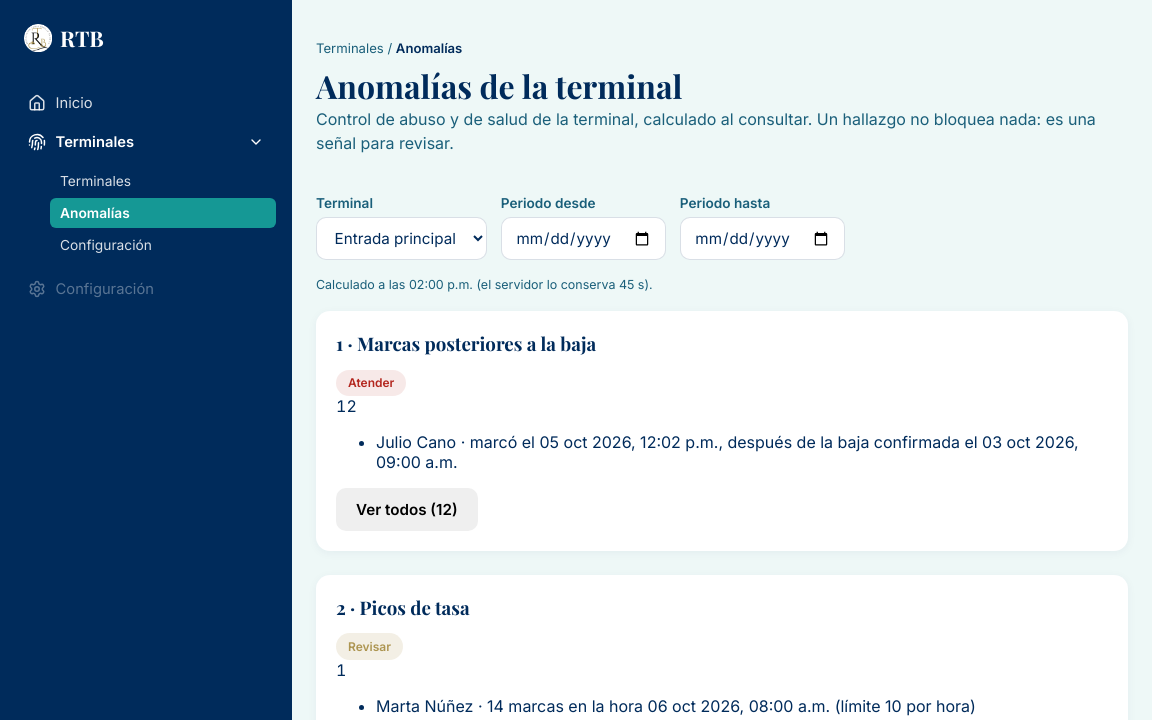
Test: AnomaliasTerminalesPage › ver todos › «Cargar más» pide la siguiente página y agrega
The width and height of the screenshot is (1152, 720).
Expected: the heading "1 · Marcas posteriores a la baja" is shown, [336,331,596,356]
Click the button "Ver todos (12)". click: (407, 509)
box: [336,488,478,531]
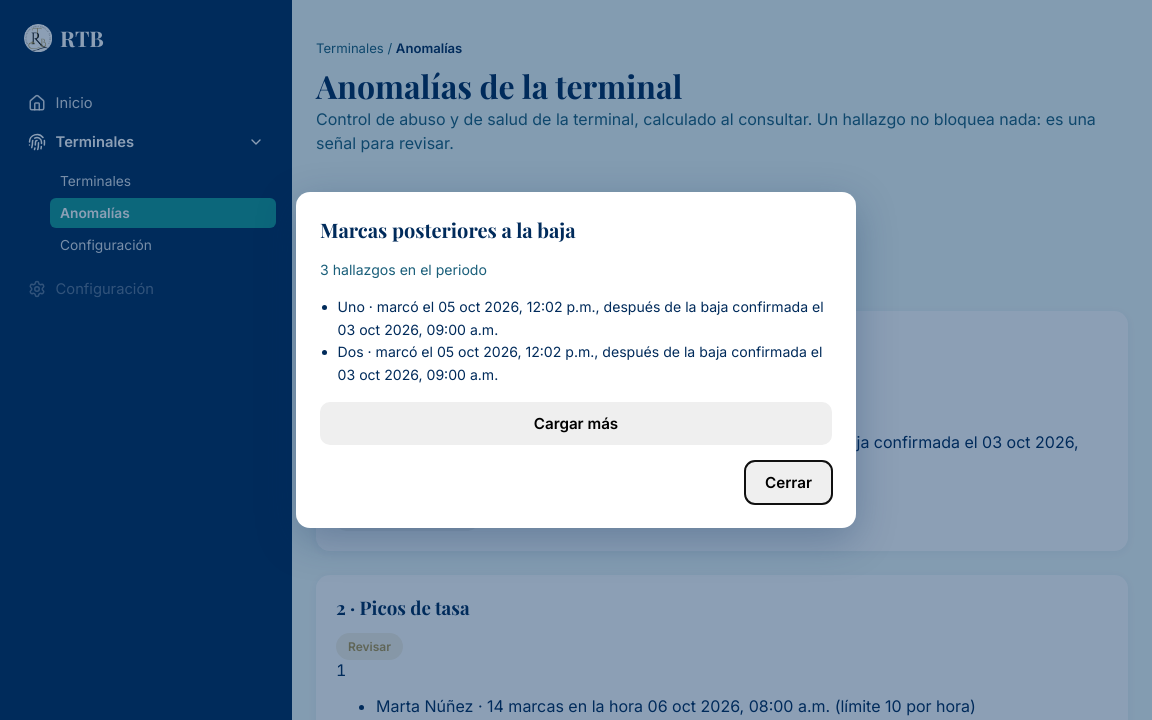
Expected: the list item "Dos" is shown, [338,343,822,382]
Click the button "Cargar más". click: (576, 424)
box: [320,402,832,445]
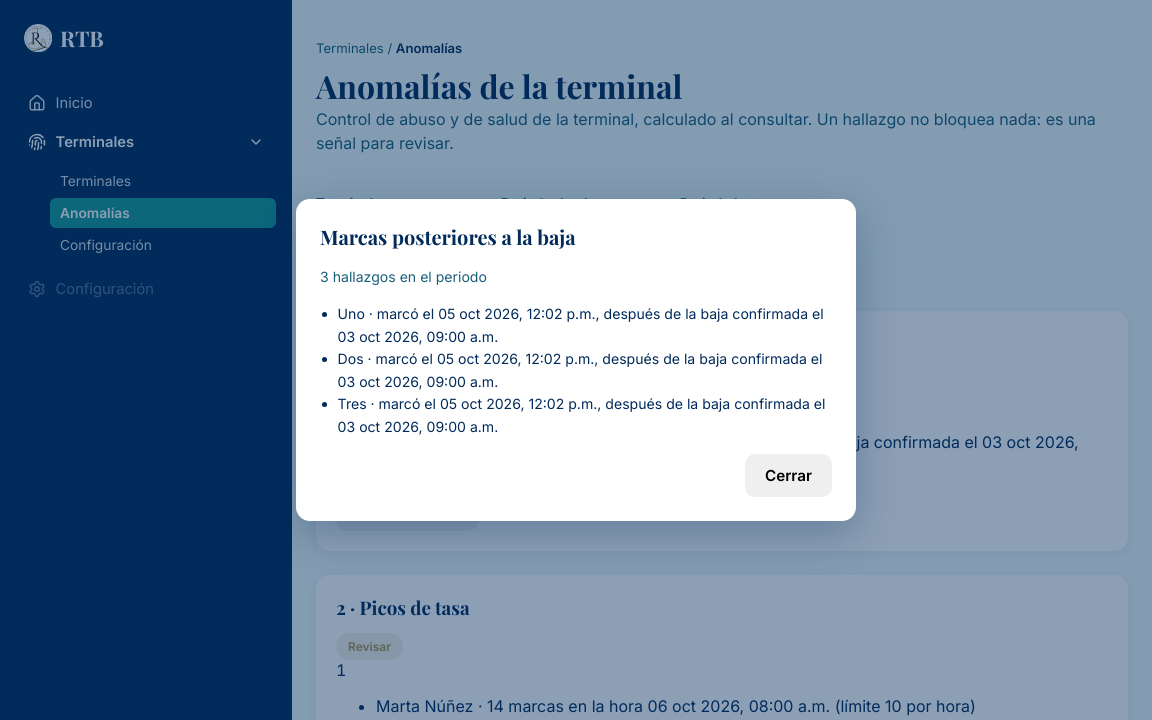
Expected: the list item "Uno" is shown, [338,305,824,344]
Expected: the list item "Tres" is shown, [338,395,825,435]
Expected: the button "Cargar más" is gone
